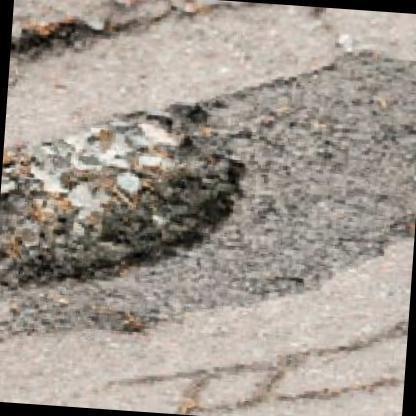pothole: (0, 98, 245, 296)
